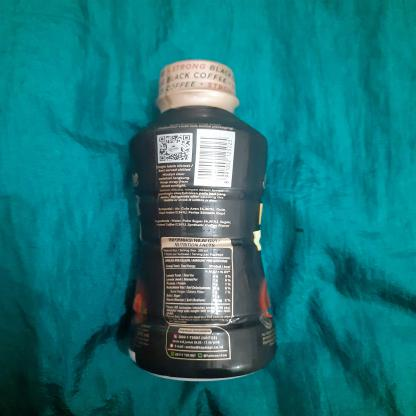bottle: (115, 53, 280, 383)
